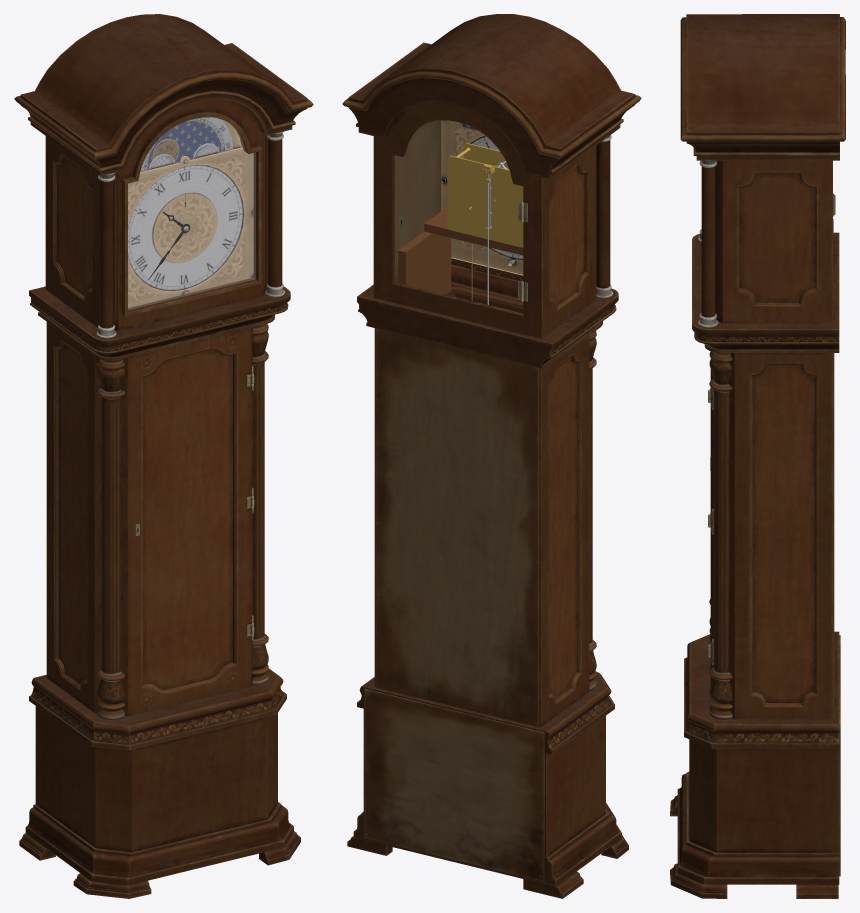
The model's file is grandfather-clock.glb.
3 views of the same model, side by side, from view 1: azimuth 30°, elevation 25°; view 2: azimuth 150°, elevation 25°; view 3: azimuth 270°, elevation 25° (orthographic). The views are drawn at different scales.
Parts seen in each view (by area): view 1: hood, case, trunk_door, base, dial; view 2: case, base, hood, frame, dial, front_plate; view 3: case, hood, base.
Part boxes in pixels (left/top/right/bottom): hood: left=25, top=19, right=313, bottom=338; case: left=14, top=14, right=290, bottom=719; trunk_door: left=128, top=328, right=254, bottom=715; base: left=19, top=668, right=300, bottom=898; dial: left=128, top=117, right=253, bottom=307; case: left=342, top=62, right=618, bottom=726; base: left=347, top=672, right=628, bottom=898; hood: left=357, top=14, right=641, bottom=334; frame: left=447, top=147, right=523, bottom=247; dial: left=441, top=120, right=523, bottom=275; front_plate: left=464, top=143, right=509, bottom=169; case: left=692, top=14, right=845, bottom=719; hood: left=680, top=14, right=823, bottom=327; base: left=670, top=631, right=840, bottom=898.
Bounding box in the file's own units: 0.6257 × 2.19 × 0.4266.
11 materials, 1 textured.
